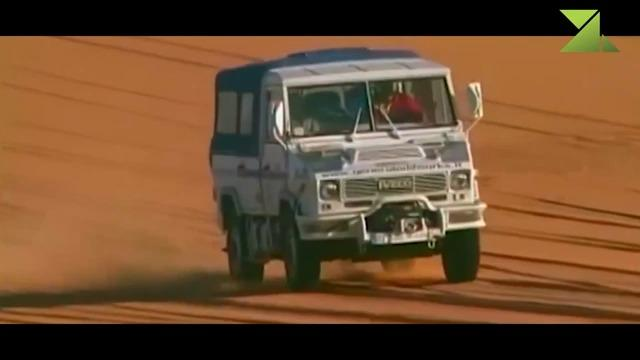MIL_HMMWV: (209, 44, 486, 282)
